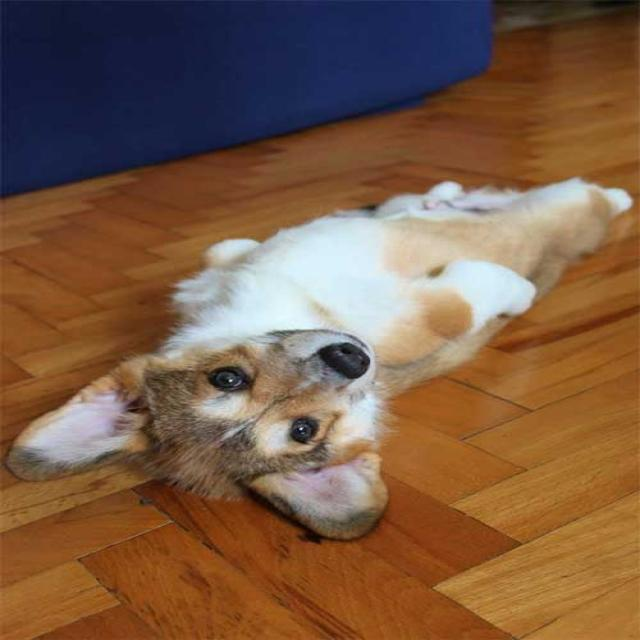CORGI: (0, 162, 640, 557)
